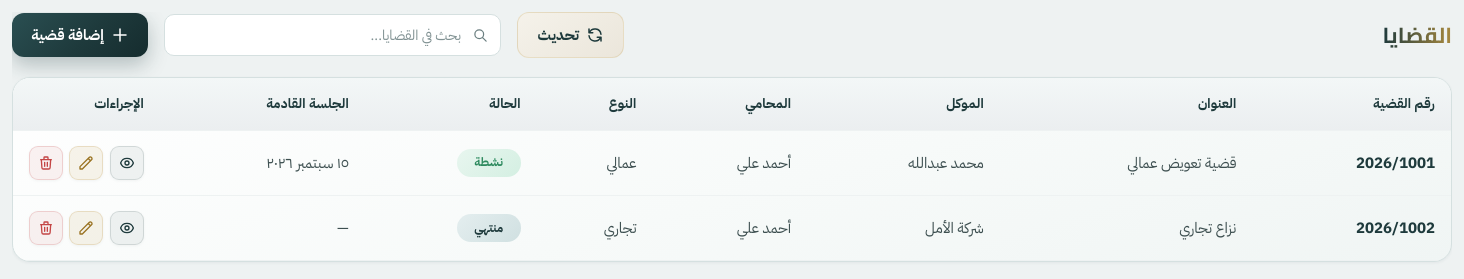
Test case: CasesPage Feature Tests › filters cases by search query
Expected: the text "قضية تعويض عمالي" is shown, top-left (1000, 130), bottom-right (1252, 196)
Type "نزاع" into the search field labelled "بحث في القضايا" at (333, 35), box top-left (164, 14), bottom-right (501, 56)
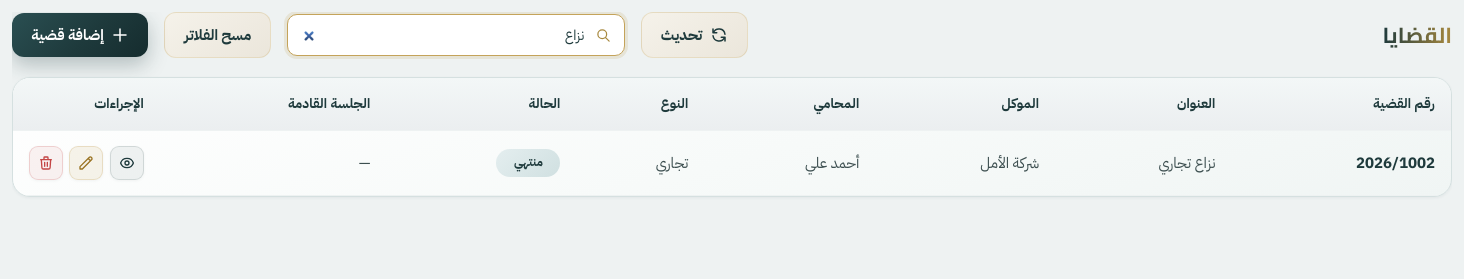
Expected: the text "نزاع تجاري" is shown, top-left (1055, 130), bottom-right (1231, 196)
Expected: the text "قضية تعويض عمالي" is gone
Click the button "مسح الفلاتر" at (218, 35), box top-left (164, 12), bottom-right (272, 58)
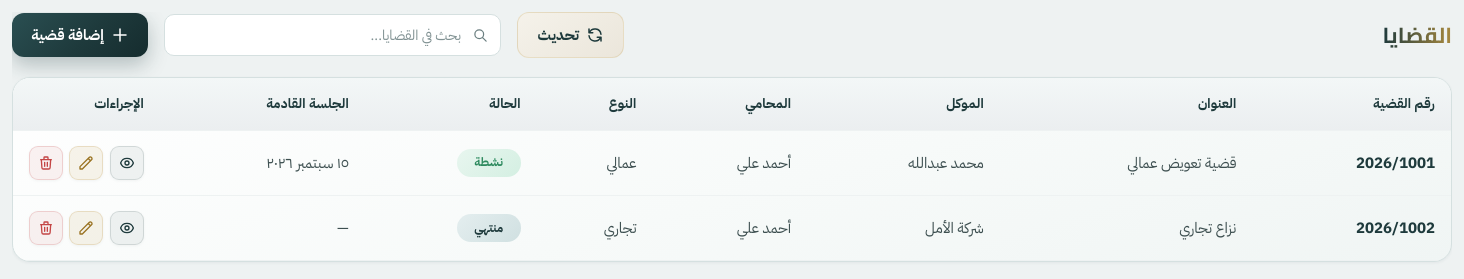
Expected: the text "قضية تعويض عمالي" is shown, top-left (1000, 130), bottom-right (1252, 196)
